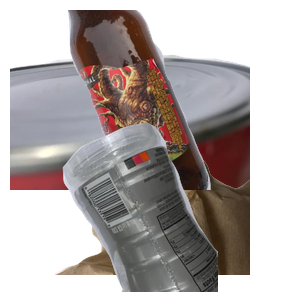glass: (65, 10, 300, 190)
metal: (10, 52, 250, 232)
plastic: (60, 120, 300, 300)
trash: (52, 120, 292, 300)
